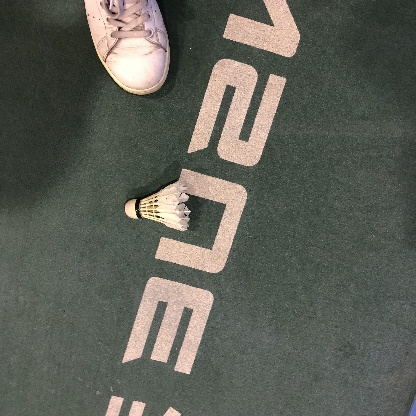ball_single: (125, 181, 191, 231)
